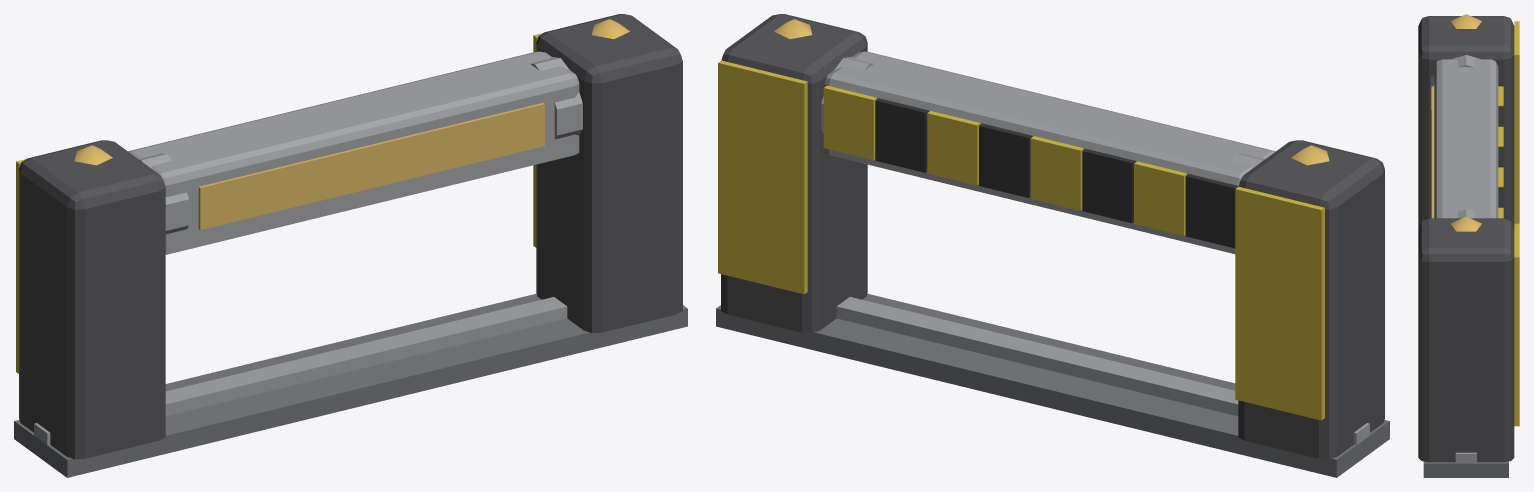
The model's file is rn2-fabrica-barrier.glb.
3 renders of one model, left to right at view 1: azimuth 30°, elevation 25°; view 2: azimuth 150°, elevation 25°; view 3: azimuth 270°, elevation 25°, orthographic. The views are drawn at different scales.
Visible parts, largest first — view 1: rn2_fabrica_barrier_body, rn2_fabrica_barrier_glow; view 2: rn2_fabrica_barrier_body, rn2_fabrica_barrier_glow; view 3: rn2_fabrica_barrier_body, rn2_fabrica_barrier_glow.
Boxes of the visible parts, box(x1,y1,x2,y2) form: rn2_fabrica_barrier_body: box(14, 14, 687, 477); rn2_fabrica_barrier_glow: box(74, 19, 629, 229); rn2_fabrica_barrier_body: box(716, 14, 1389, 477); rn2_fabrica_barrier_glow: box(774, 19, 1329, 165); rn2_fabrica_barrier_body: box(1418, 16, 1519, 477); rn2_fabrica_barrier_glow: box(1431, 14, 1481, 231).
Bounding box in the file's own units: 2.16 × 1 × 0.38.
